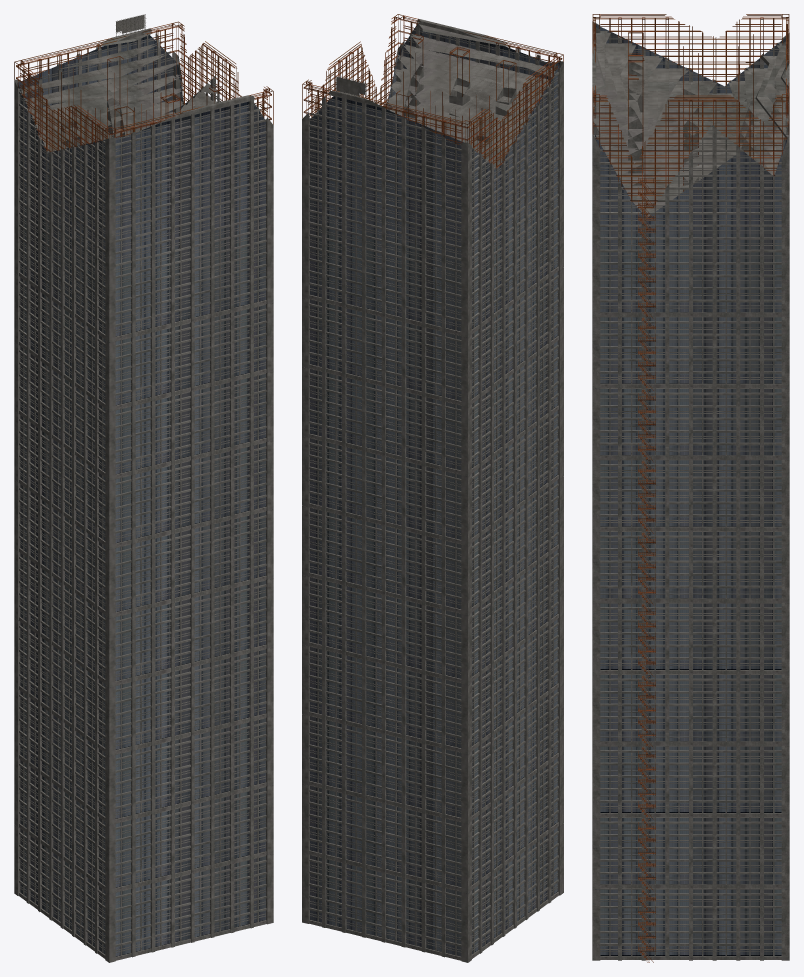
The model's file is building_03.glb.
3 renders of one model, left to right at view 1: azimuth 30°, elevation 25°; view 2: azimuth 150°, elevation 25°; view 3: azimuth 270°, elevation 25°, orthographic. The views are drawn at different scales.
Parts seen in each view (by area): view 1: Building 03; view 2: Building 03; view 3: Building 03.
Boxes of the visible parts, x1,y1,x2,y2 form: Building 03: (14,14,273,962); Building 03: (302,14,563,962); Building 03: (592,14,789,962).
Bounding box in the file's own units: 52.07 × 246 × 50.
Materials: 4 (4 with a texture image).
